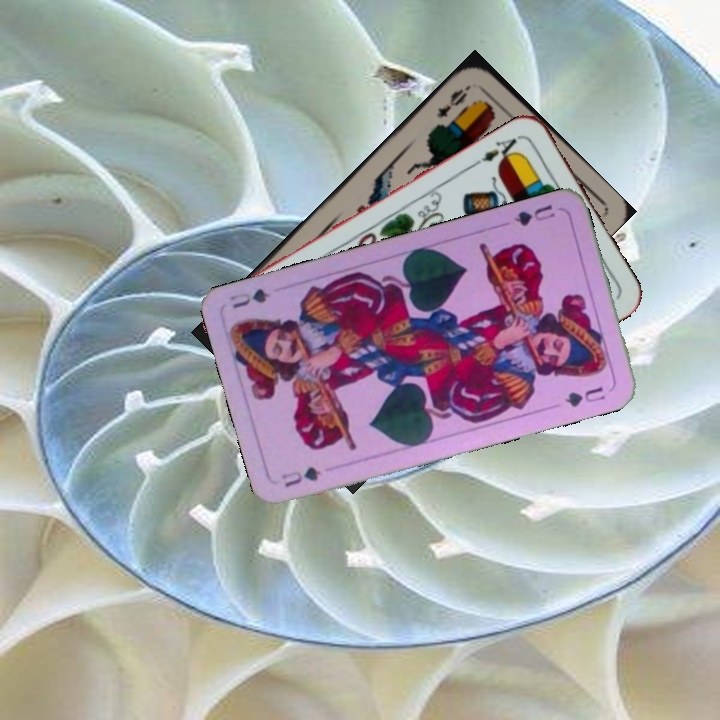EA: (470, 131, 524, 169)
EO: (431, 80, 474, 121)
GU: (511, 200, 558, 229), (277, 462, 323, 490)
